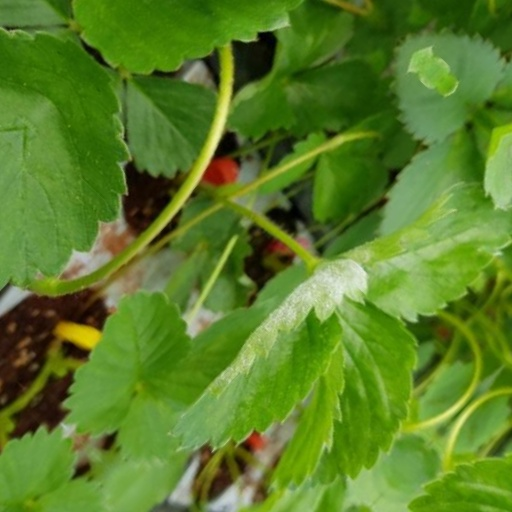Powdery Mildew Leaf: (304, 189, 392, 452)
